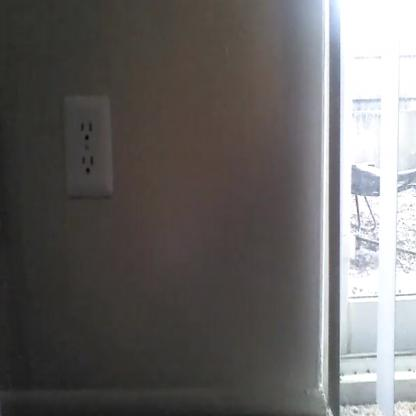OUTLET: (63, 95, 113, 195)
